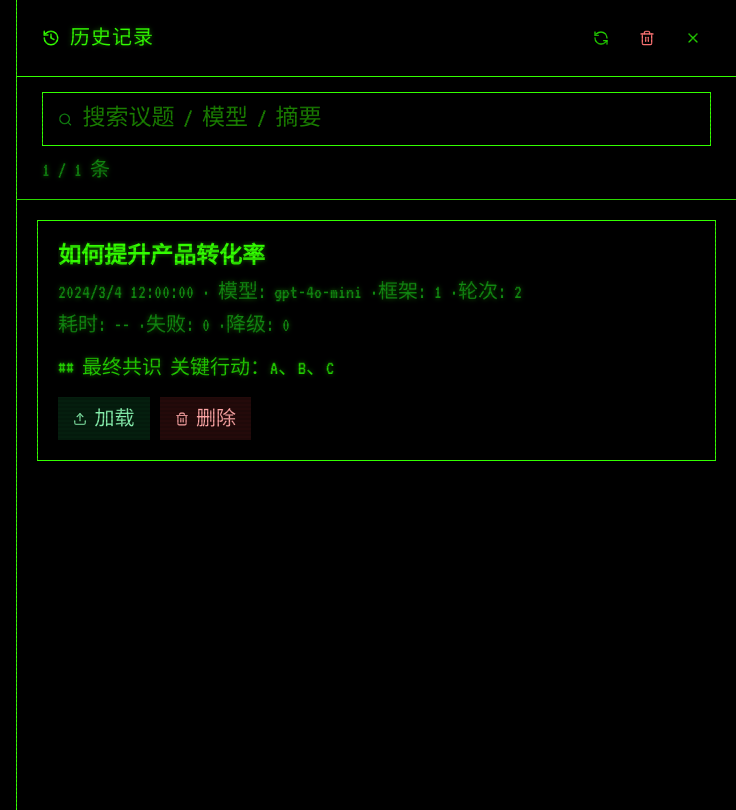
Test case: HistoryPanel › shows No results message when search yields nothing
The width and height of the screenshot is (736, 810).
Type "ZZZZNOTEXIST" into the field with placeholder "搜索议题 / 模型 / 摘要" at (389, 119), box [82, 103, 695, 135]
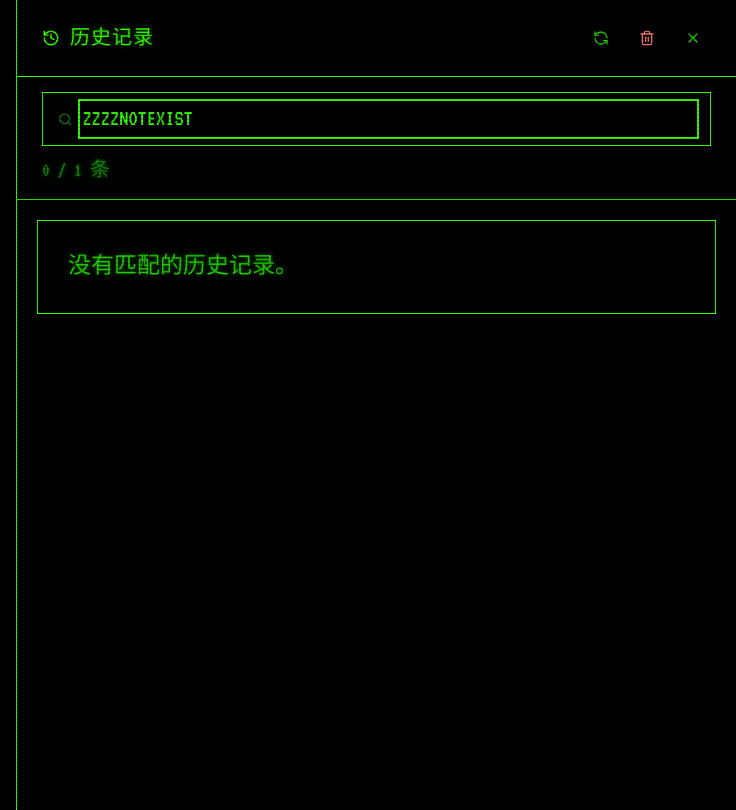
expect the text "没有匹配的历史记录。" is shown: met, box [37, 220, 716, 314]
